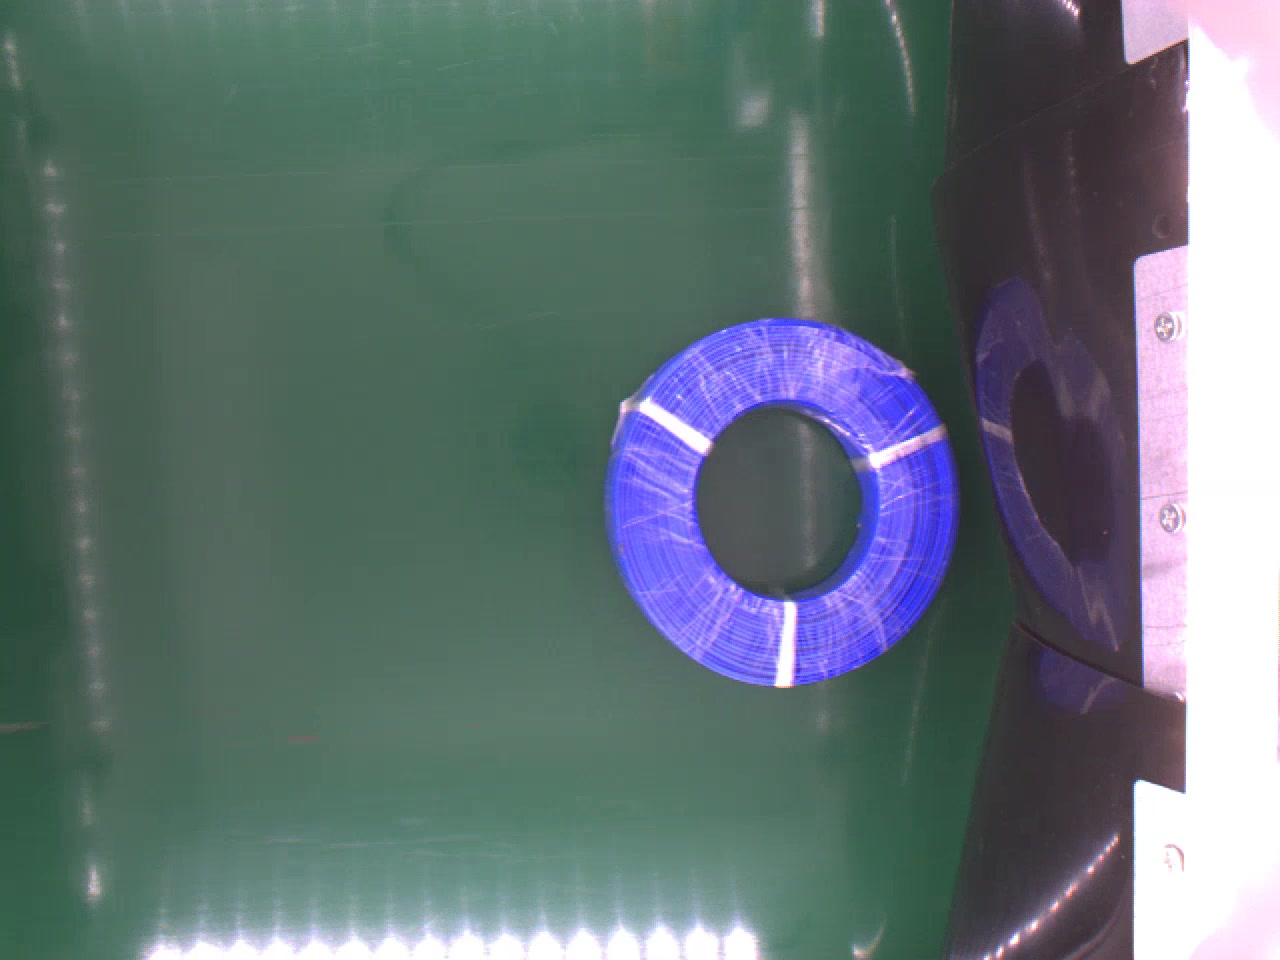blue: (600, 315, 963, 690)
